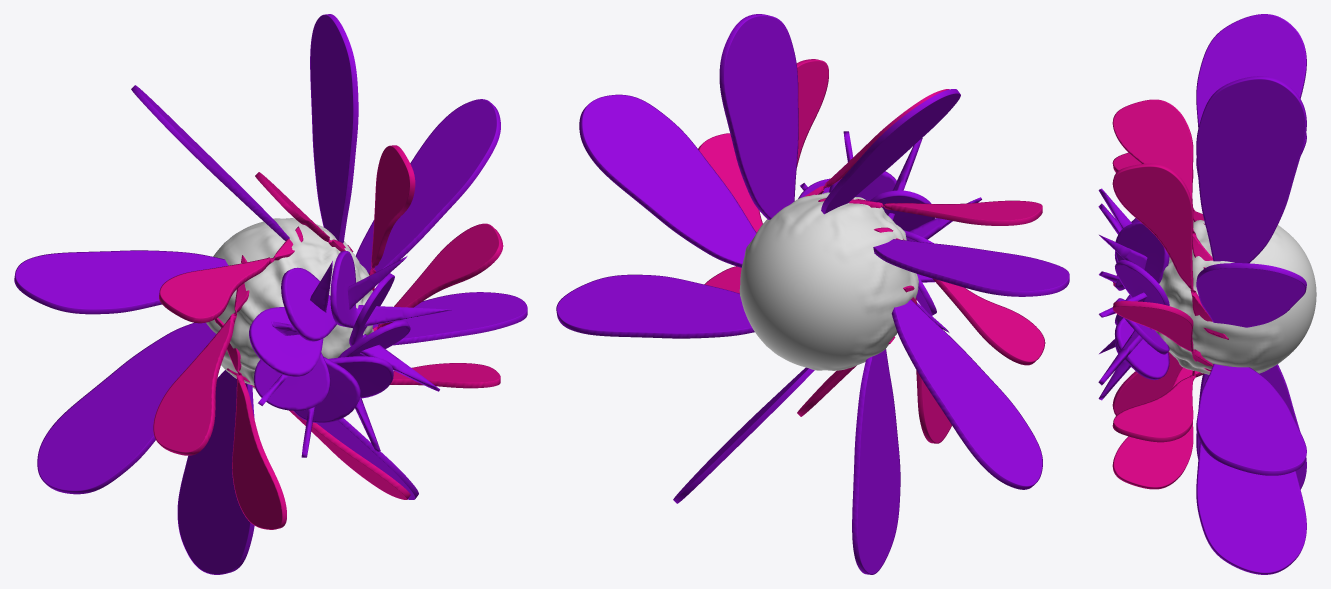
File: dan.fbx
The picture shows the model from 3 angles, left to right: view 1: azimuth 30°, elevation 25°; view 2: azimuth 150°, elevation 25°; view 3: azimuth 270°, elevation 25°; orthographic projection. The views are drawn at different scales.
Visible parts, largest first — view 1: dan; view 2: dan; view 3: dan.
Boxes of the visible parts, x1,y1,x2,y2 form: dan: [14, 14, 527, 574]; dan: [556, 14, 1069, 574]; dan: [1098, 14, 1316, 574].
Size of the model in its own units: 6.71 by 6.71 by 2.69.
